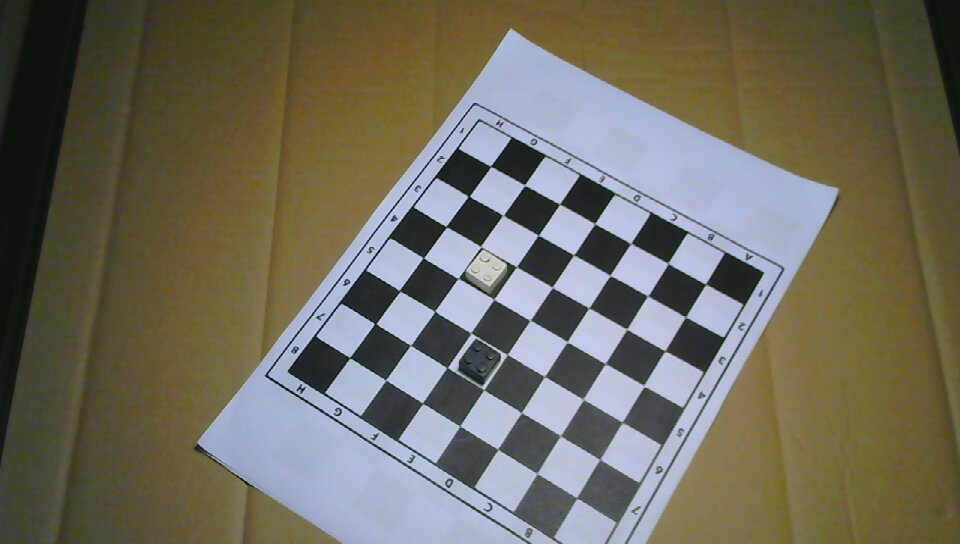bp: (457, 338, 501, 384)
wp: (464, 249, 507, 294)
